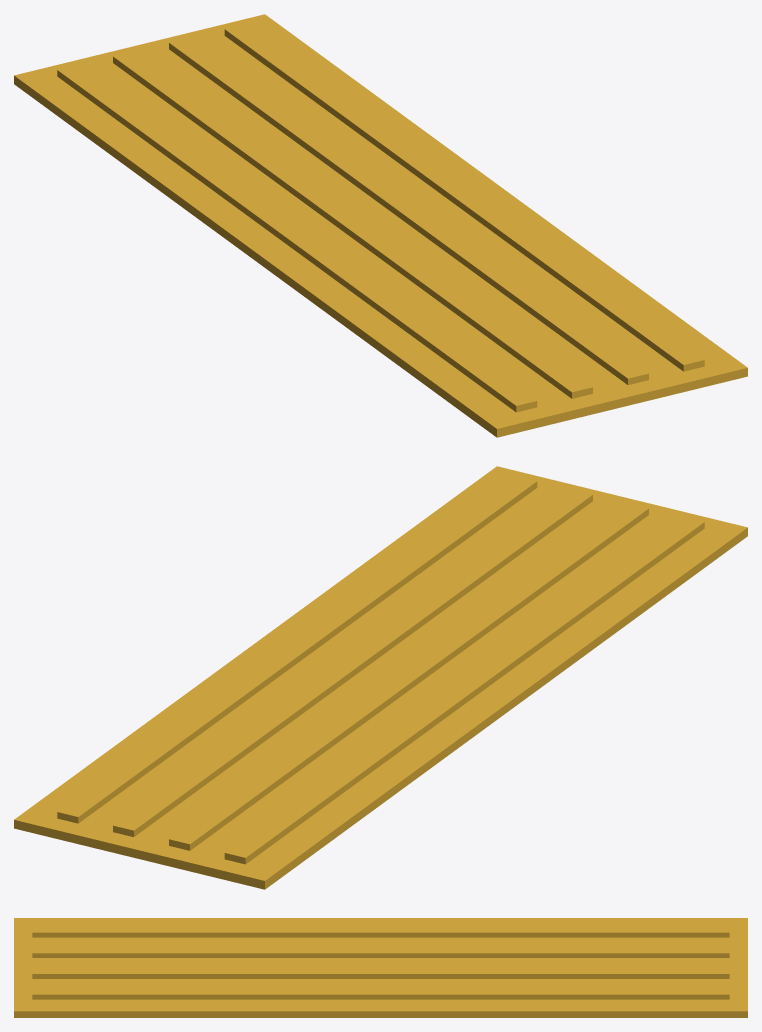
The model's file is TactilePaving_Strip_2m.glb.
3 views of the same model, one above another, from view 1: azimuth 30°, elevation 25°; view 2: azimuth 150°, elevation 25°; view 3: azimuth 270°, elevation 25° (orthographic). The views are drawn at different scales.
Visible parts, largest first — view 1: TactilePaving_Strip_2m_PaintYellow; view 2: TactilePaving_Strip_2m_PaintYellow; view 3: TactilePaving_Strip_2m_PaintYellow.
Boxes of the visible parts, <box> form: TactilePaving_Strip_2m_PaintYellow: <box>14,14,747,437</box>; TactilePaving_Strip_2m_PaintYellow: <box>14,466,747,889</box>; TactilePaving_Strip_2m_PaintYellow: <box>14,918,747,1017</box>.
Size of the model in its own units: 0.6 by 0.035 by 2.
